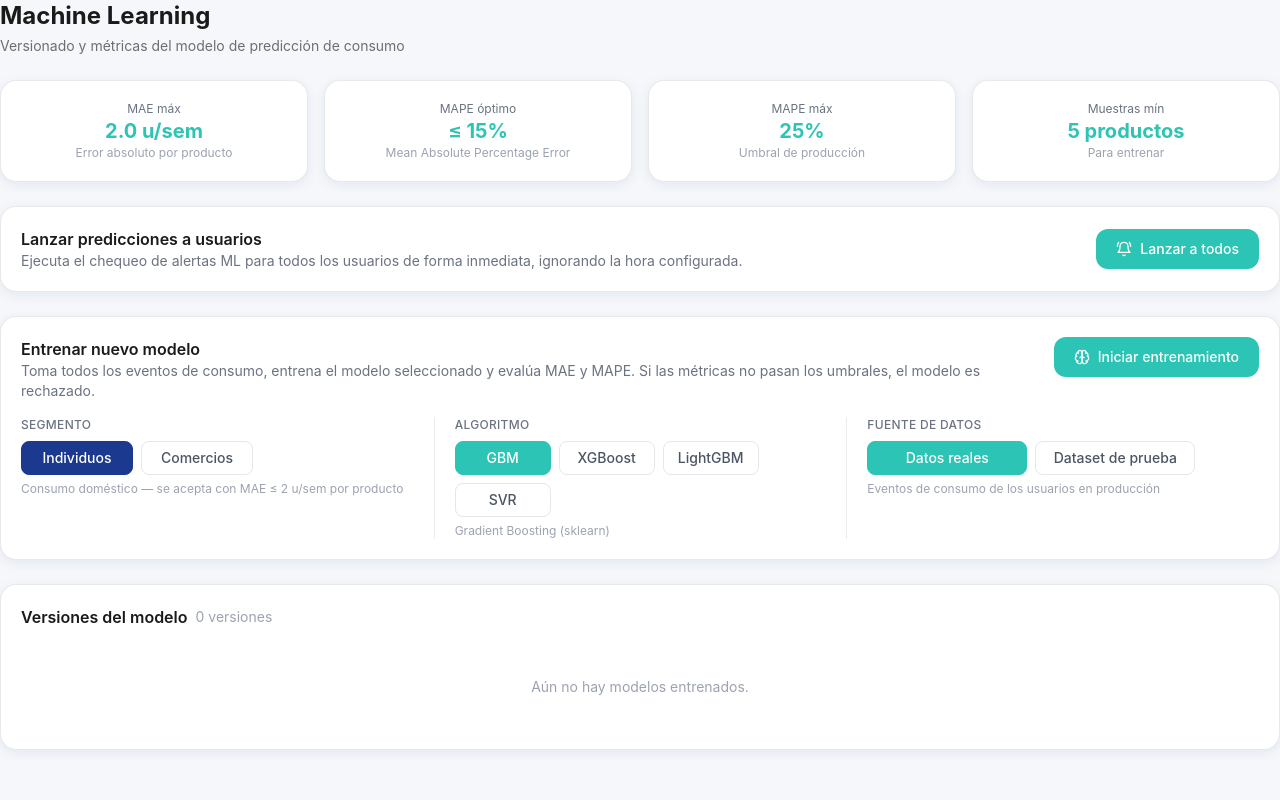
Test case: ML › si falla el entrenamiento, muestra el error del backend
The width and height of the screenshot is (1280, 800).
Expected: the text "Aún no hay modelos entrenados." is shown, [531,678,749,695]
Click the button "Iniciar entrenamiento" at (1156,357), box [1054,337,1259,377]
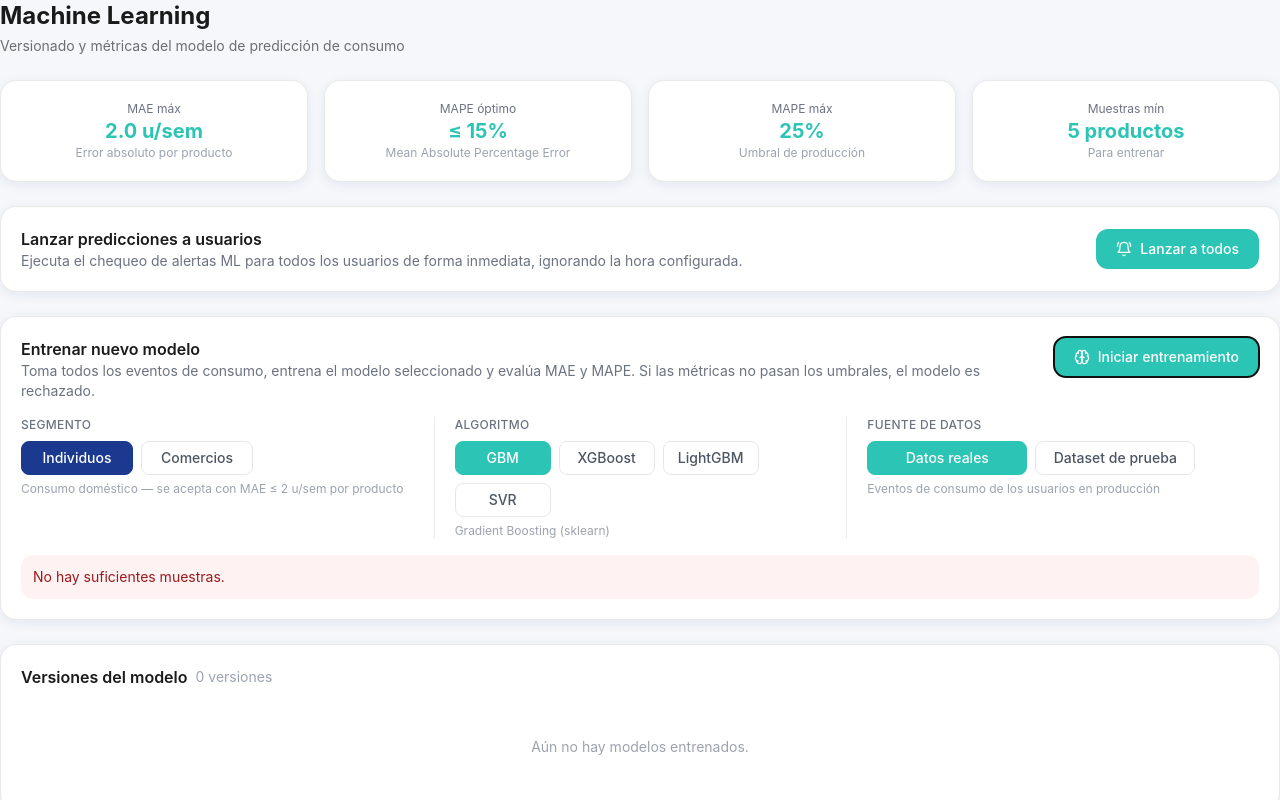
Expected: the text "No hay suficientes muestras." is shown, [21,555,1259,599]
